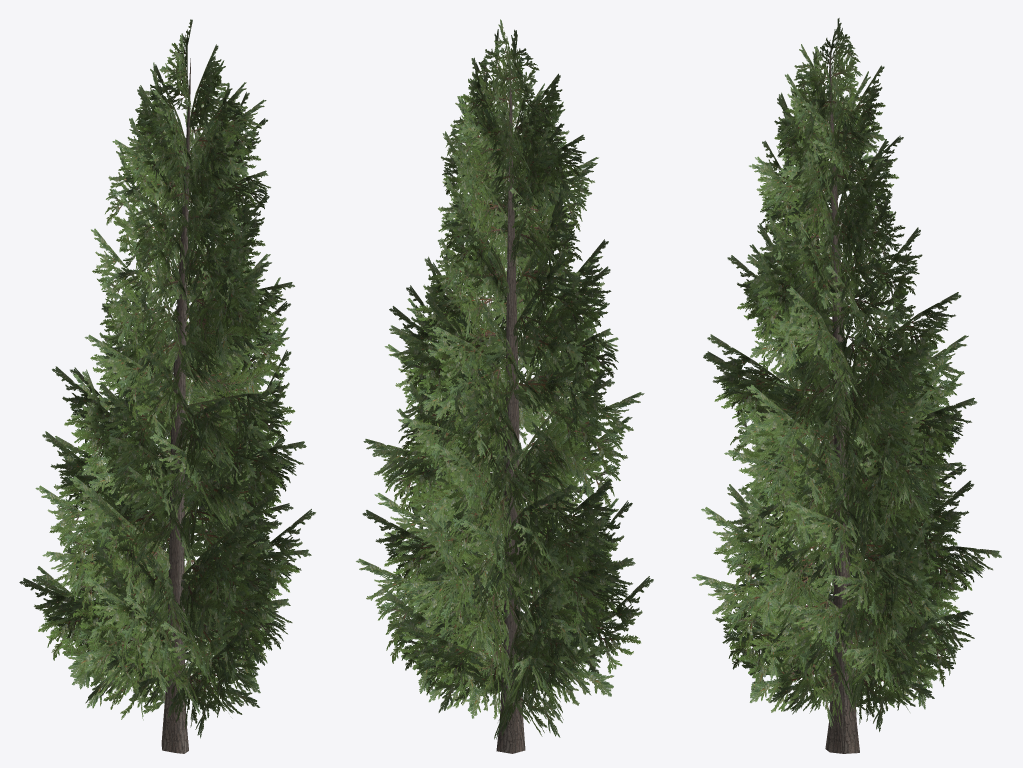
The model's file is Cupressus_Leylandii_Autumn_Young.glb.
The picture shows the model from 3 angles, left to right: view 1: azimuth 30°, elevation 25°; view 2: azimuth 150°, elevation 25°; view 3: azimuth 270°, elevation 25°; orthographic projection. The views are drawn at different scales.
Visible parts, largest first — view 1: Cupressus_Leylandii_Autumn_Young__LOD3; view 2: Cupressus_Leylandii_Autumn_Young__LOD3; view 3: Cupressus_Leylandii_Autumn_Young__LOD3.
Boxes of the visible parts, bbox=[...] form: Cupressus_Leylandii_Autumn_Young__LOD3: bbox=[19, 19, 315, 753]; Cupressus_Leylandii_Autumn_Young__LOD3: bbox=[356, 19, 653, 753]; Cupressus_Leylandii_Autumn_Young__LOD3: bbox=[691, 18, 1001, 753].
Bounding box in the file's own units: 1.34 × 3.45 × 1.36.
2 materials, 2 textured.
